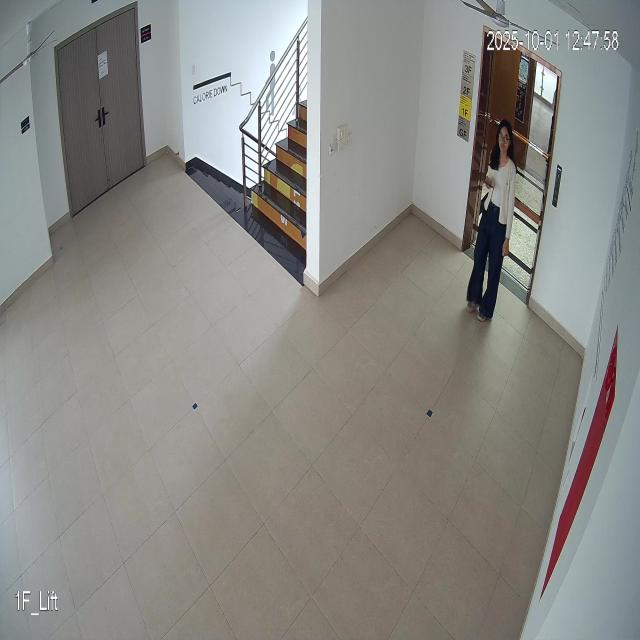face: (497, 119, 512, 158)
